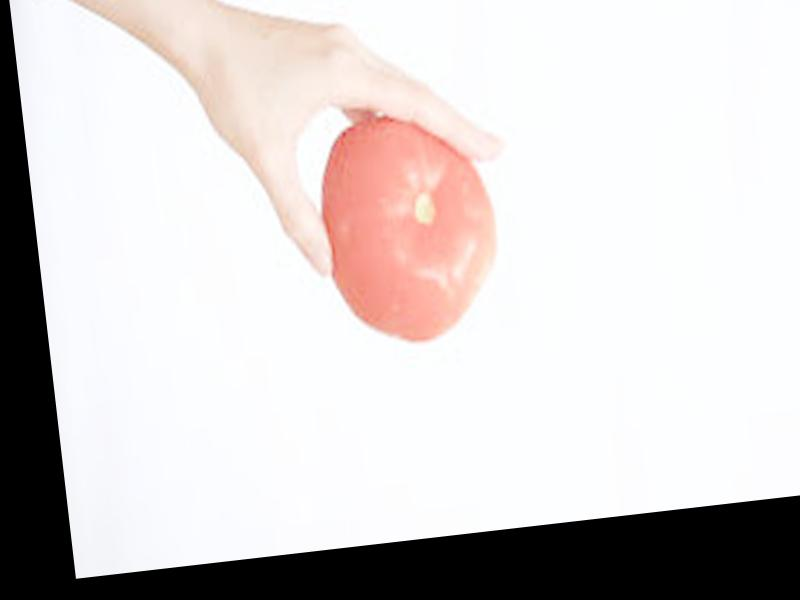Tomato: (312, 110, 508, 350)
